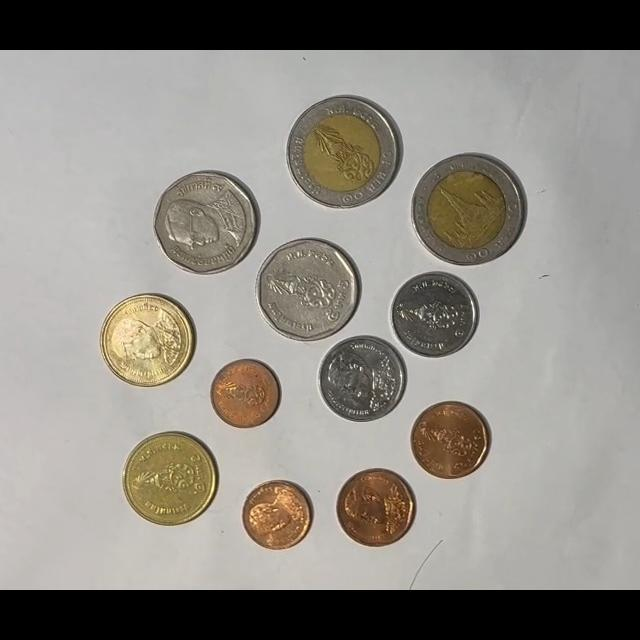1-baht: (318, 336, 407, 424), (389, 271, 479, 358)
10-baht: (287, 95, 402, 210), (411, 153, 525, 265)
2-baht: (122, 432, 220, 527), (101, 294, 194, 389)
25-satang: (241, 480, 314, 551), (210, 358, 280, 429)
5-baht: (256, 237, 360, 343), (154, 171, 259, 275)
50-satang: (336, 469, 416, 548), (410, 401, 490, 480)
